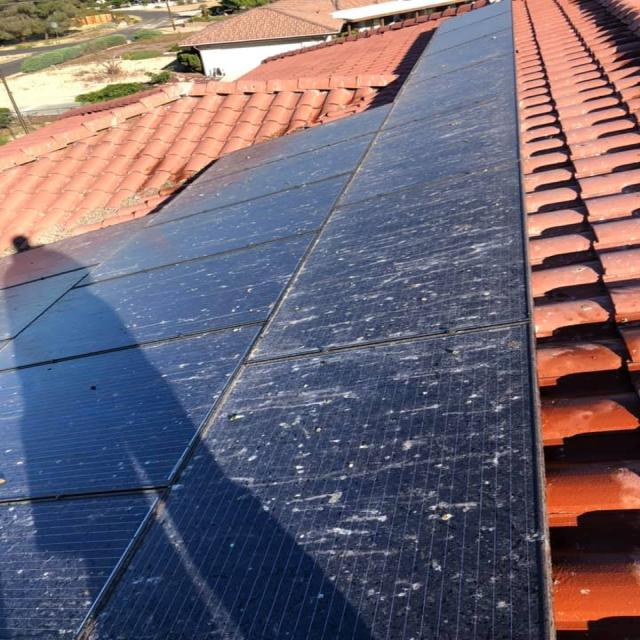dust-solar-panel: (0, 28, 544, 640)
